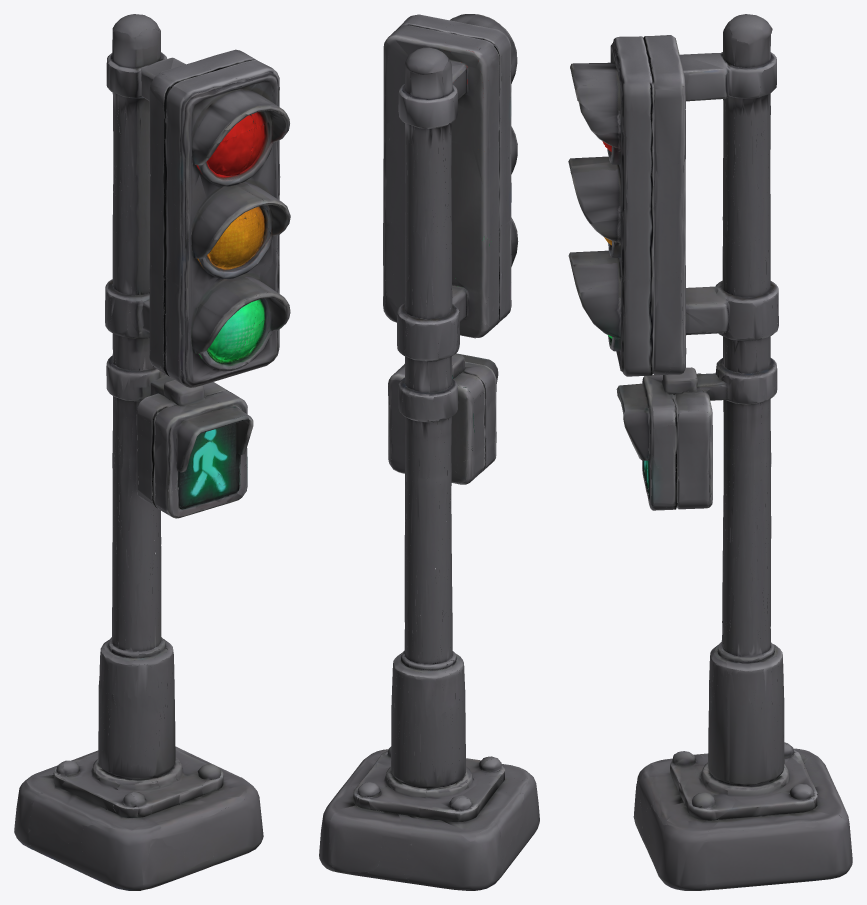
Rendered from GameTrafficLight.fbx.
3 views of the same model, side by side, from view 1: azimuth 30°, elevation 25°; view 2: azimuth 150°, elevation 25°; view 3: azimuth 270°, elevation 25° (orthographic). The views are drawn at different scales.
Parts seen in each view (by area): view 1: GameTrafficLight; view 2: GameTrafficLight; view 3: GameTrafficLight.
Boxes of the visible parts, left/top/right/bottom form: GameTrafficLight: left=14, top=14, right=290, bottom=890; GameTrafficLight: left=319, top=14, right=539, bottom=890; GameTrafficLight: left=568, top=14, right=852, bottom=890.
Bounding box in the file's own units: 81.71 × 340 × 106.
